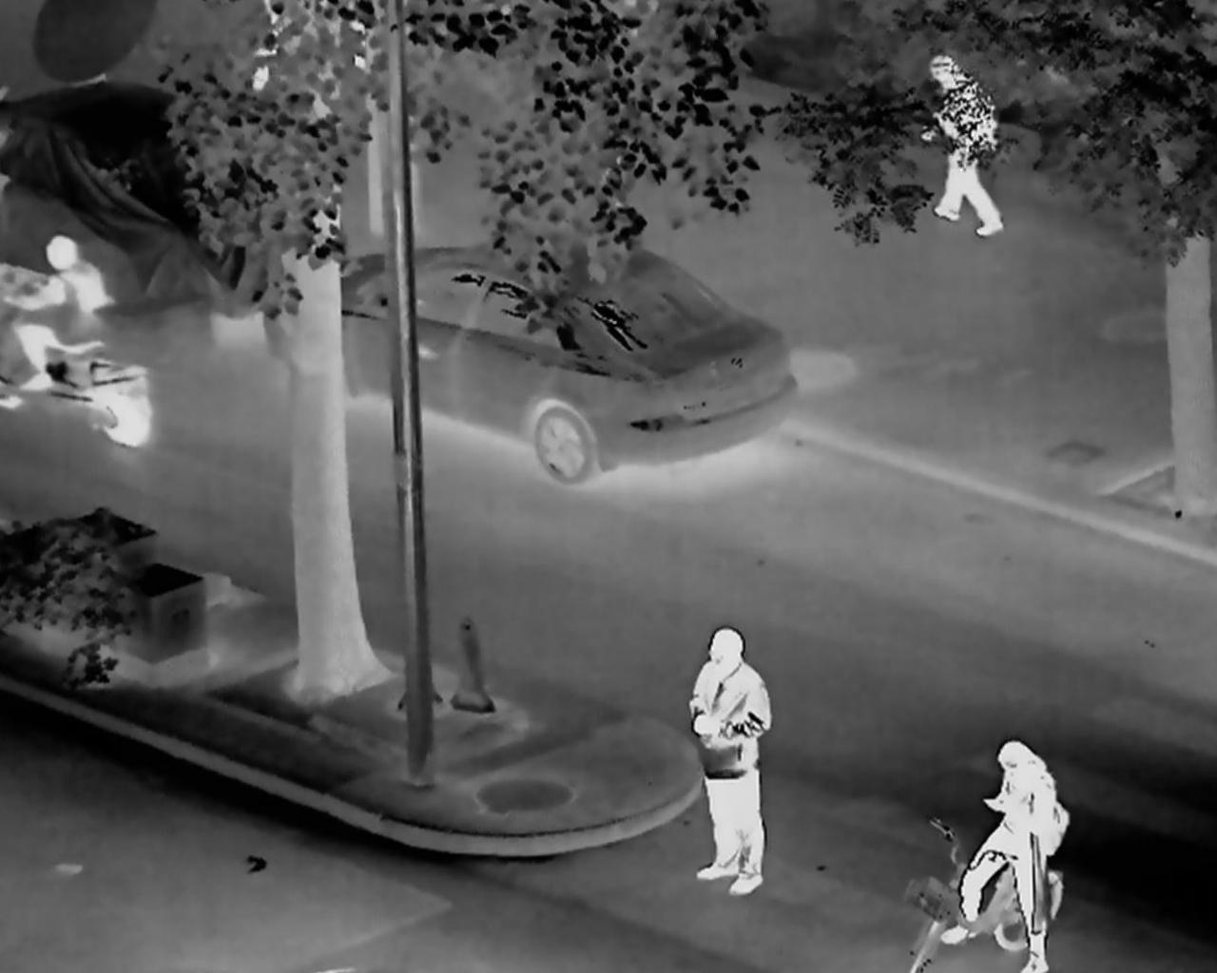person: (943, 741, 1054, 973), (687, 625, 773, 895), (5, 235, 108, 390), (923, 54, 1003, 238)
